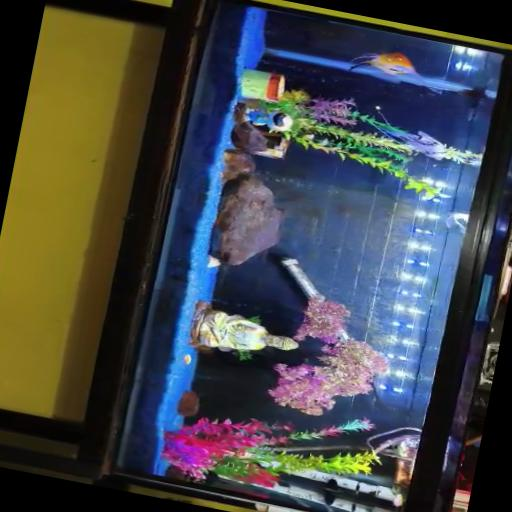Fish: (348, 52, 439, 93), (375, 125, 446, 160), (385, 131, 446, 159), (444, 212, 468, 234), (323, 479, 342, 505), (182, 353, 192, 365)
